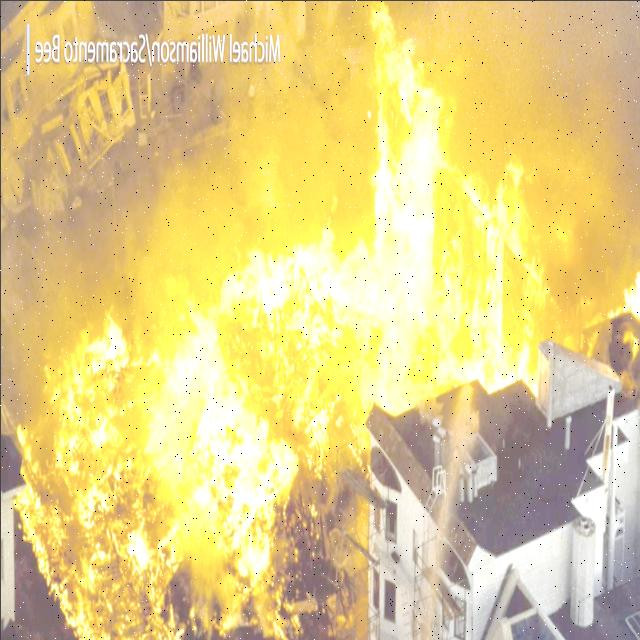api: (163, 283, 303, 604), (368, 1, 454, 331), (449, 147, 551, 400), (215, 197, 372, 340), (38, 276, 140, 480), (13, 480, 98, 640), (353, 322, 414, 460), (300, 395, 336, 491), (66, 479, 115, 531), (603, 266, 640, 330), (16, 410, 38, 482), (122, 523, 152, 575)
